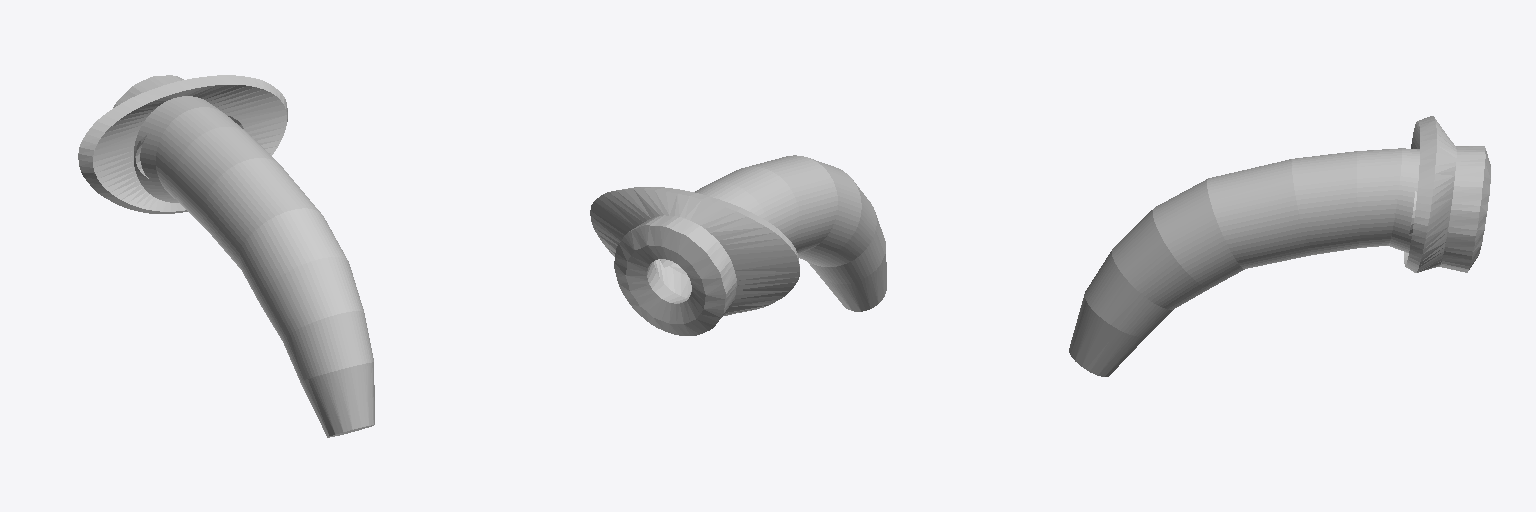
The model's file is mouth.obj.
3 renders of one model, left to right at view 1: azimuth 30°, elevation 25°; view 2: azimuth 150°, elevation 25°; view 3: azimuth 270°, elevation 25°, orthographic.
Parts seen in each view (by area): view 1: cylinder234; view 2: cylinder234; view 3: cylinder234.
Boxes of the visible parts, x1,y1,x2,y2 form: cylinder234: [78, 75, 374, 437]; cylinder234: [590, 155, 886, 335]; cylinder234: [1069, 116, 1490, 376].
Bounding box in the file's own units: 5.9 × 6.33 × 10.33.